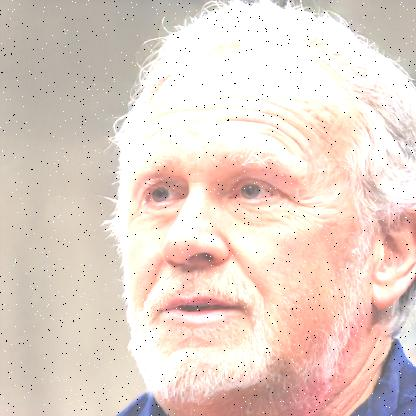eyeee: (224, 176, 293, 206), (128, 177, 186, 207)
mouthhz: (158, 294, 245, 327)
nosebb: (160, 186, 232, 269)
